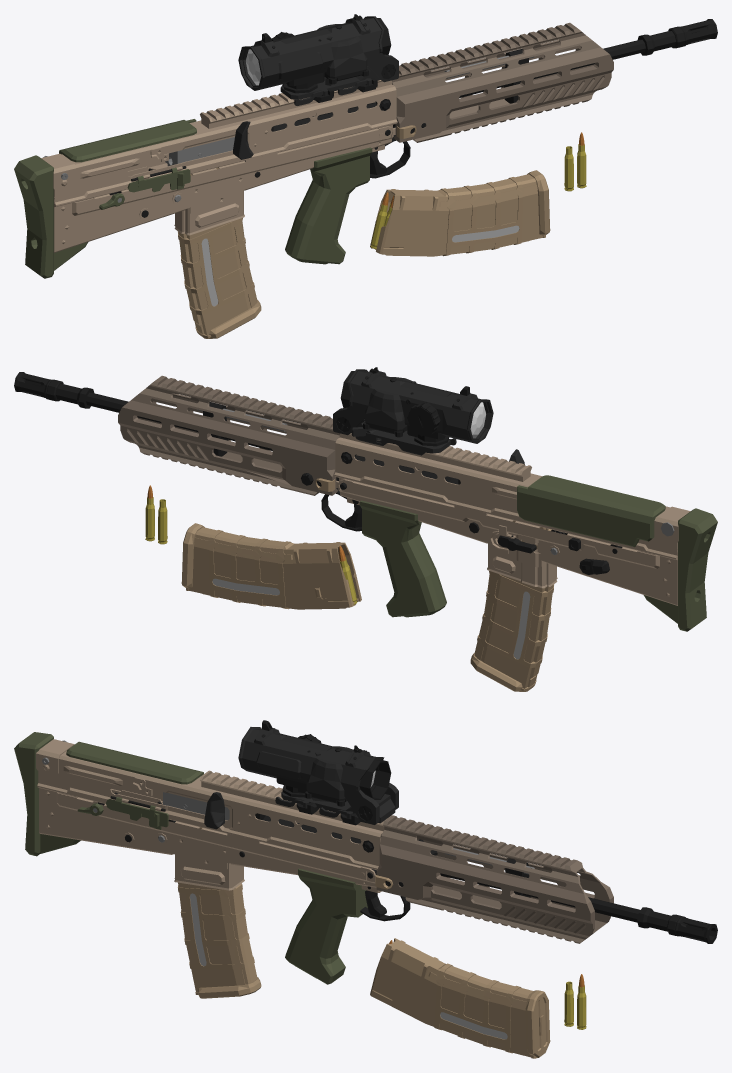
3 views of the same model, one above another, from view 1: azimuth 30°, elevation 25°; view 2: azimuth 150°, elevation 25°; view 3: azimuth 330°, elevation 25° (orthographic).
Parts seen in each view (by area): view 1: l85a3 lower_10, l85a3 handguard (mlok)_9, l85a3 upper_15, 55645 ar15 30rnd mag (pmag)_1, elcan specter dr_4, 55645 ar15 30rnd mag empty (pmag)_2, l85a3 barrel_5, l85a3 flash hider_8, l85a3 bolt_6, l85a3 dust cover_7; view 2: l85a3 lower_10, l85a3 upper_15, l85a3 handguard (mlok)_9, 55645 ar15 30rnd mag (pmag)_1, elcan specter dr_4, 55645 ar15 30rnd mag empty (pmag)_2, l85a3 barrel_5, l85a3 flash hider_8; view 3: l85a3 lower_10, l85a3 handguard (mlok)_9, l85a3 upper_15, 55645 ar15 30rnd mag (pmag)_1, elcan specter dr_4, 55645 ar15 30rnd mag empty (pmag)_2, l85a3 barrel_5, l85a3 flash hider_8, l85a3 bolt_6, l85a3 dust cover_7.
Boxes of the visible parts, bbox=[...] form: l85a3 lower_10: bbox=[14, 126, 410, 278]; l85a3 handguard (mlok)_9: bbox=[392, 22, 613, 142]; l85a3 upper_15: bbox=[41, 80, 397, 206]; 55645 ar15 30rnd mag (pmag)_1: bbox=[370, 170, 550, 256]; elcan specter dr_4: bbox=[238, 14, 398, 105]; 55645 ar15 30rnd mag empty (pmag)_2: bbox=[178, 167, 261, 338]; l85a3 barrel_5: bbox=[245, 39, 645, 161]; l85a3 flash hider_8: bbox=[637, 19, 717, 55]; l85a3 bolt_6: bbox=[165, 121, 253, 166]; l85a3 dust cover_7: bbox=[127, 166, 190, 192]; l85a3 lower_10: bbox=[321, 479, 717, 631]; l85a3 upper_15: bbox=[334, 433, 690, 559]; l85a3 handguard (mlok)_9: bbox=[118, 375, 339, 495]; 55645 ar15 30rnd mag (pmag)_1: bbox=[181, 523, 361, 609]; elcan specter dr_4: bbox=[333, 367, 493, 455]; 55645 ar15 30rnd mag empty (pmag)_2: bbox=[470, 520, 553, 691]; l85a3 barrel_5: bbox=[86, 392, 486, 514]; l85a3 flash hider_8: bbox=[14, 372, 94, 408]; l85a3 lower_10: bbox=[14, 732, 410, 984]; l85a3 handguard (mlok)_9: bbox=[375, 815, 613, 943]; l85a3 upper_15: bbox=[36, 739, 437, 870]; 55645 ar15 30rnd mag (pmag)_1: bbox=[370, 938, 550, 1058]; elcan specter dr_4: bbox=[238, 720, 398, 825]; 55645 ar15 30rnd mag empty (pmag)_2: bbox=[177, 827, 261, 998]; l85a3 barrel_5: bbox=[255, 813, 640, 922]; l85a3 flash hider_8: bbox=[637, 907, 717, 943]; l85a3 bolt_6: bbox=[163, 792, 229, 829]; l85a3 dust cover_7: bbox=[106, 796, 168, 829].
Size of the model in its own units: 7.7 by 3.07 by 0.6286.
